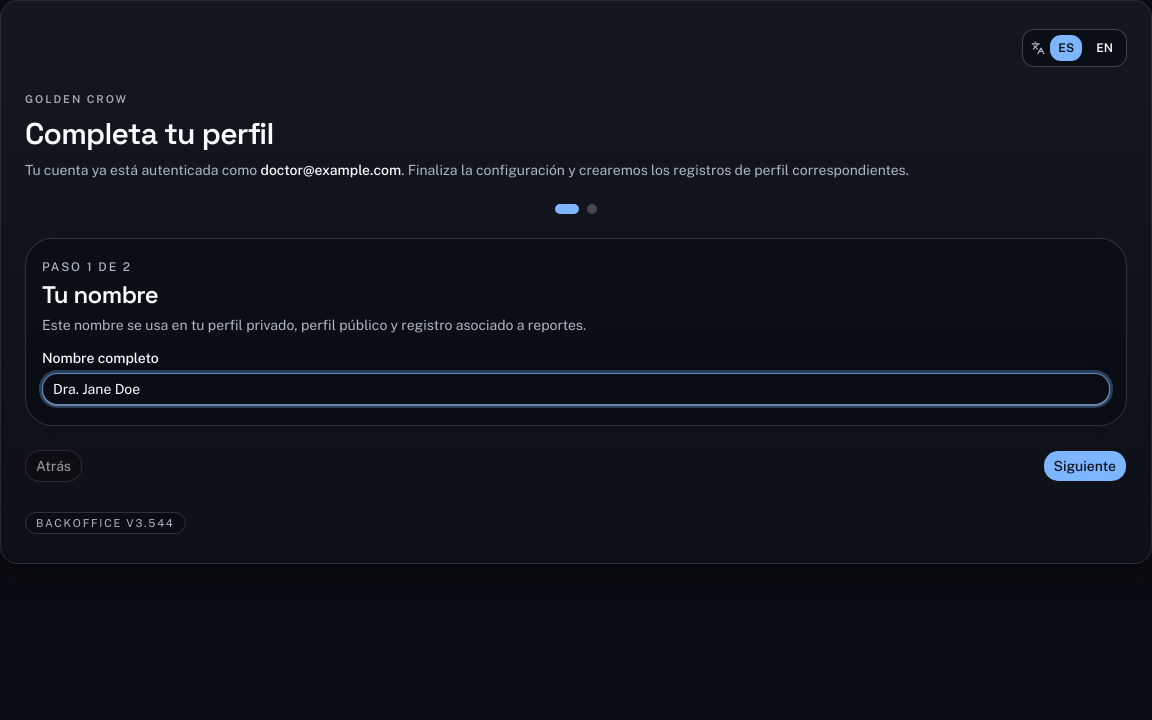
Test case: CompleteProfileFlow › shows Skip until optional professional details are filled
Check: the heading "Completa tu perfil" is shown, box [25, 114, 274, 153]
Click the button "Siguiente" at {"x": 1085, "y": 466}, box [1042, 450, 1127, 482]
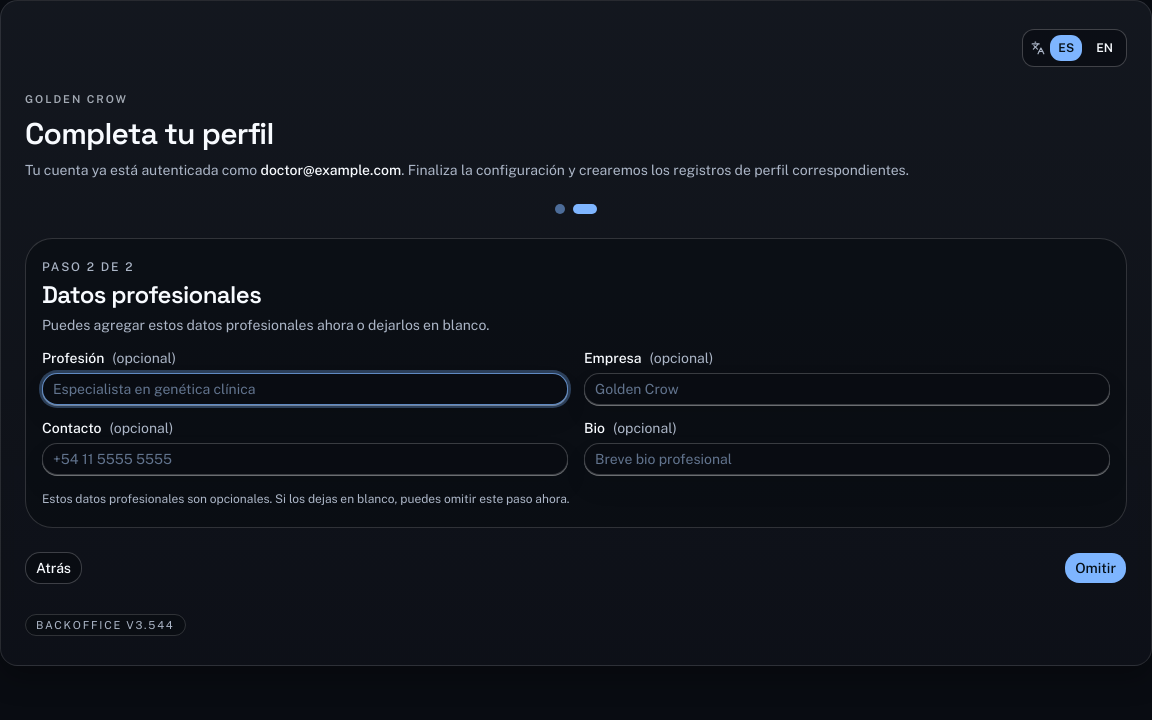
Check: the heading "Datos profesionales" is shown, box [42, 279, 261, 310]
Check: the button "Omitir" is shown, box [1064, 552, 1127, 584]
Check: the text "Estos datos profesionales son opcionales" is shown, box [42, 492, 570, 506]
Type "Genetista" into the field labelled "Profesión (opcional)" at {"x": 305, "y": 389}, box [42, 373, 568, 405]
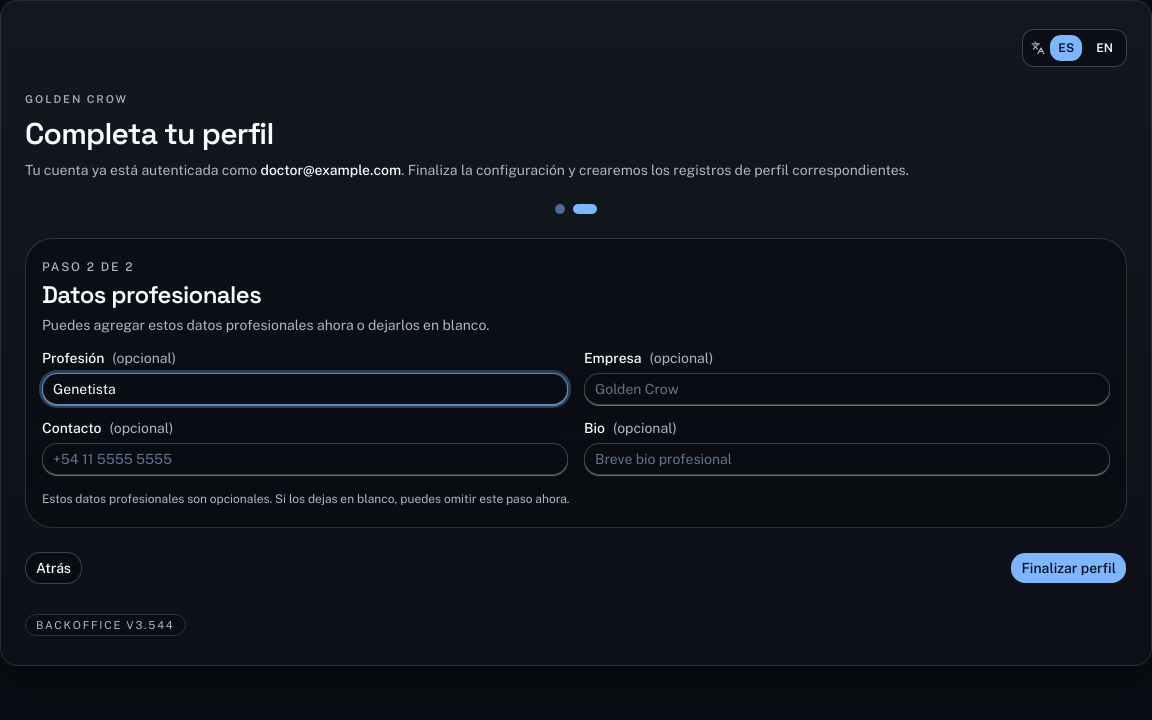
Check: the button "Finalizar perfil" is shown, box [1010, 552, 1127, 584]
